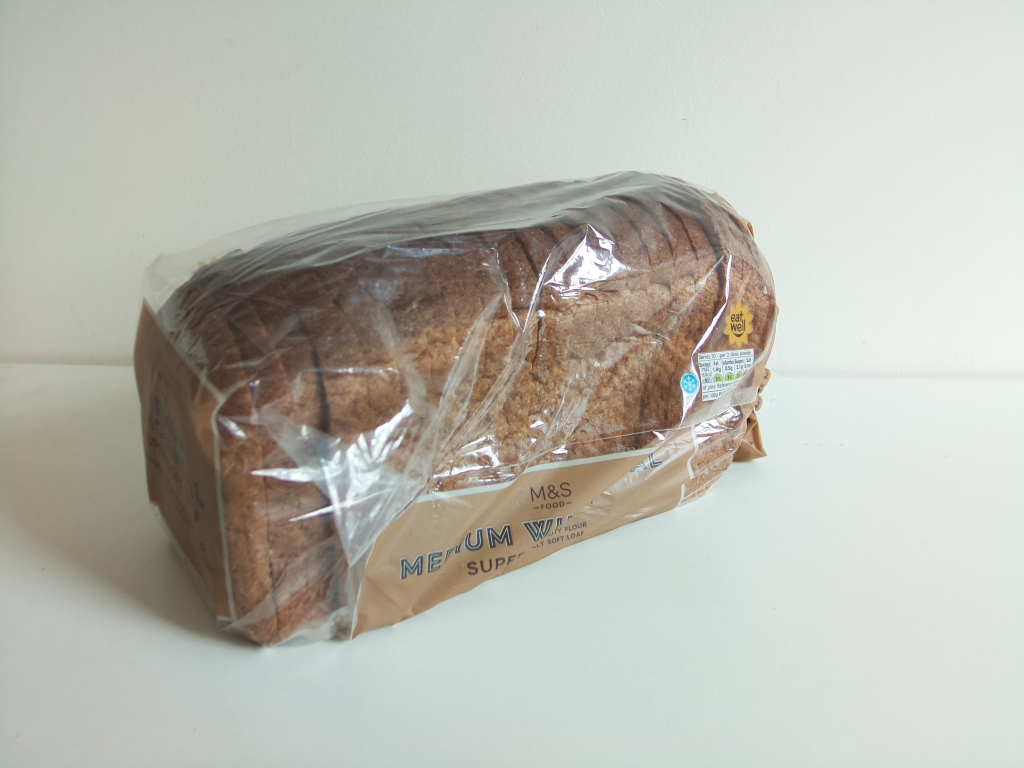bread: (140, 175, 782, 654)
